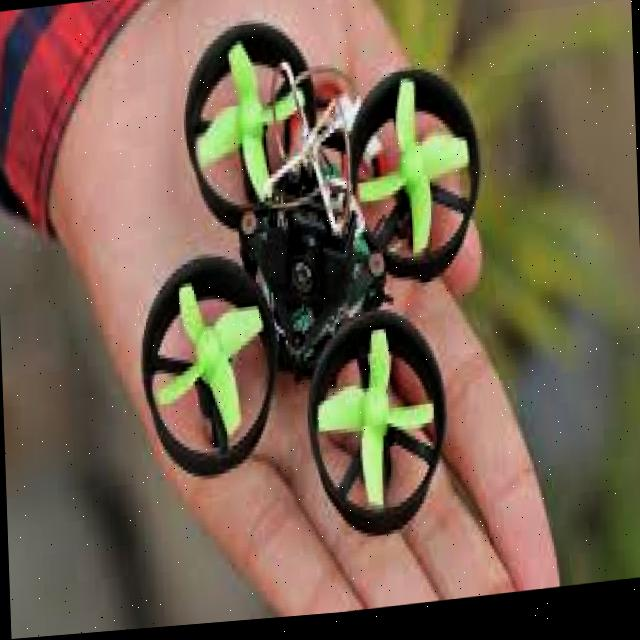drone: (128, 2, 504, 563)
